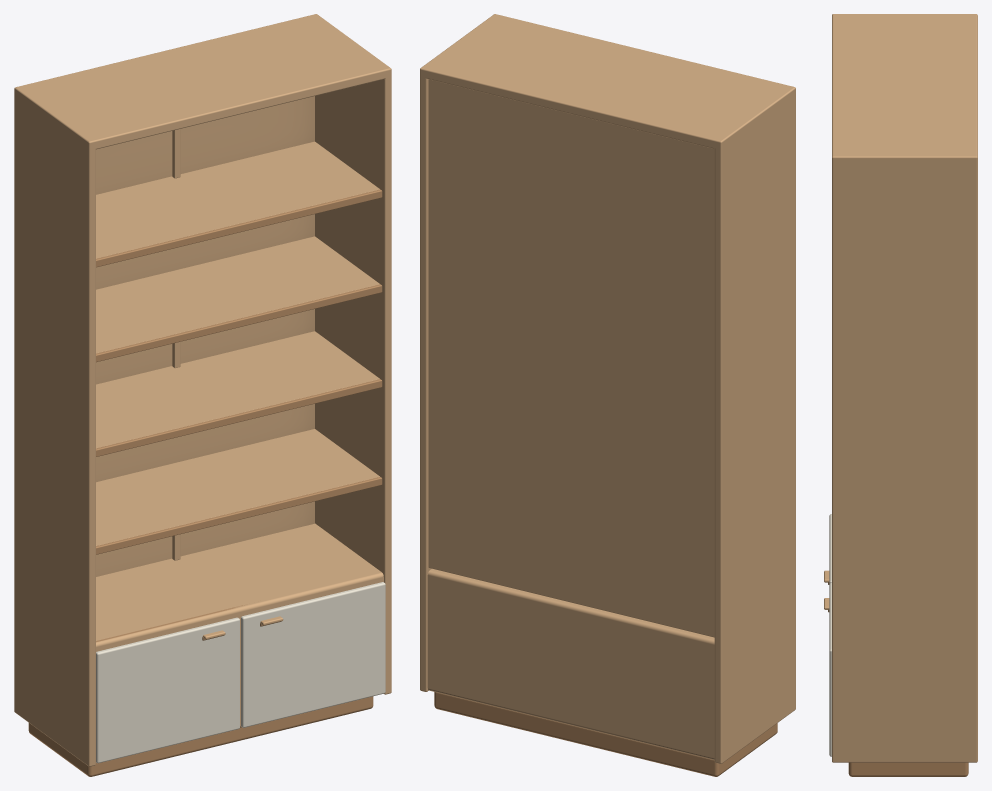
File: family-maple-library-v1.glb
The picture shows the model from 3 angles, left to right: view 1: azimuth 30°, elevation 25°; view 2: azimuth 150°, elevation 25°; view 3: azimuth 270°, elevation 25°; orthographic projection. The views are drawn at different scales.
Parts seen in each view (by area): view 1: Maple case stile (×2), Maple shelf (×5), Inset porcelain door (×2), Maple niche lining (×5), Maple case crown, Solid edge lipping (×4), Lower cabinet body, Recessed maple plinth; view 2: Maple case back, Maple case stile (×2), Lower cabinet body, Maple case crown, Recessed maple plinth; view 3: Maple case stile (×2), Maple case crown, Recessed maple plinth, Inset porcelain door.
Boxes of the visible parts, left/top/right/bottom form: Maple case stile (×2): left=14, top=14, right=391, bottom=766; Maple shelf (×5): left=96, top=141, right=379, bottom=640; Inset porcelain door (×2): left=96, top=582, right=385, bottom=763; Maple niche lining (×5): left=96, top=96, right=314, bottom=576; Maple case crown: left=15, top=14, right=391, bottom=149; Solid edge lipping (×4): left=96, top=189, right=382, bottom=554; Lower cabinet body: left=96, top=523, right=383, bottom=762; Recessed maple plinth: left=28, top=696, right=373, bottom=776; Maple case back: left=428, top=79, right=714, bottom=637; Maple case stile (×2): left=420, top=14, right=795, bottom=763; Lower cabinet body: left=427, top=568, right=714, bottom=759; Maple case crown: left=420, top=14, right=794, bottom=149; Recessed maple plinth: left=434, top=692, right=777, bottom=776; Maple case stile (×2): left=832, top=14, right=977, bottom=762; Maple case crown: left=832, top=14, right=977, bottom=164; Recessed maple plinth: left=848, top=762, right=968, bottom=776; Inset porcelain door: left=829, top=583, right=831, bottom=756.
Bounding box in the file's own units: 1.1 × 2.25 × 0.5005.
